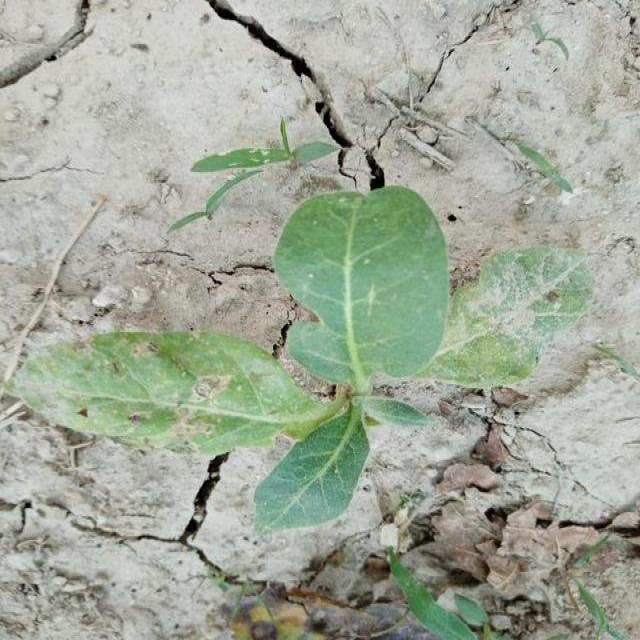crop: (35, 170, 592, 518)
